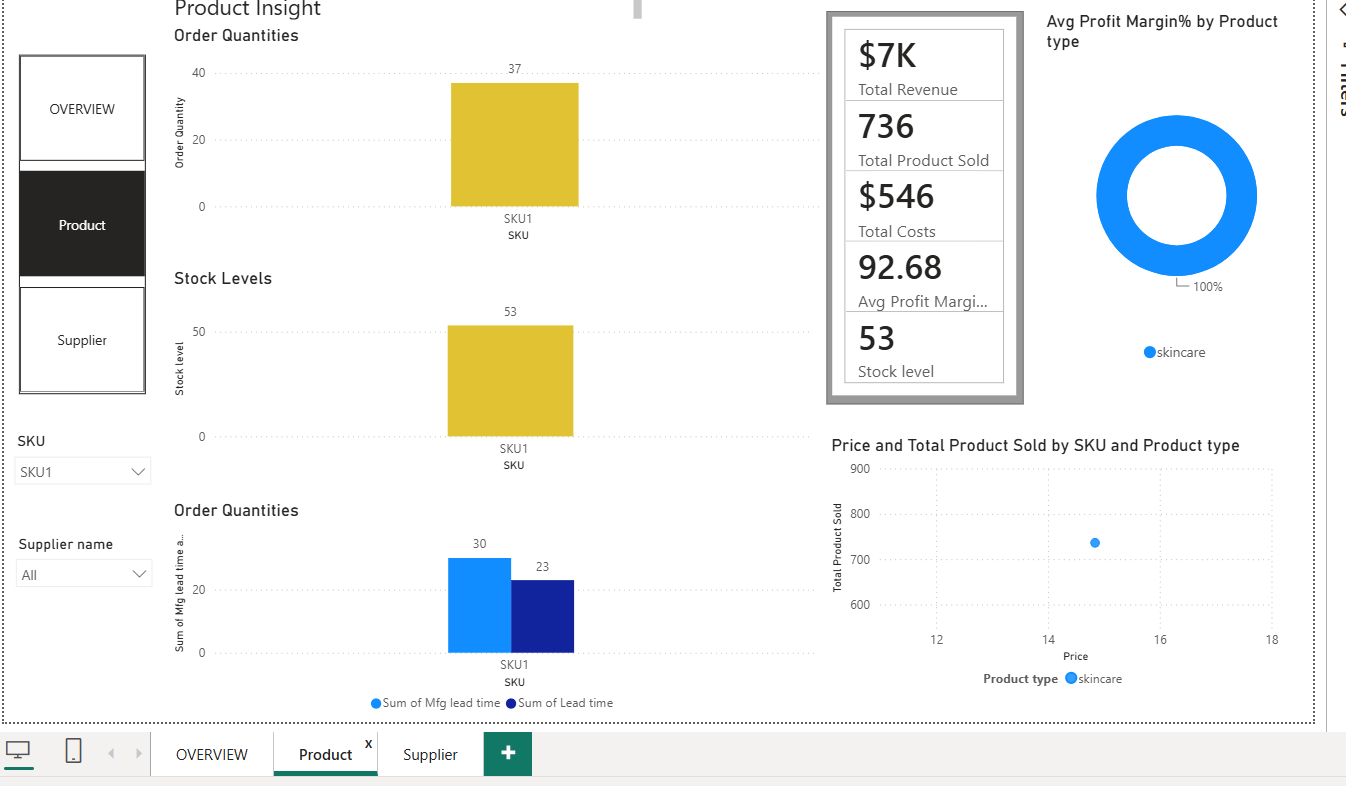

The page's visual inventory and layout, read from the dashboard file:
{"tool":"powerbi","page":{"name":"Product","canvas":[1280,720],"ordinal":1},"visuals":[{"type":"columnChart","title":"Order Quantities","fields":{"Category":["supply chain analysis.SKU"],"Y":["_Measures.Order Quantity"]},"box":[161.4,37.9,643.2,217.7],"z":0},{"type":"clusteredColumnChart","title":"Order Quantities","fields":{"Category":["supply chain analysis.SKU"],"Y":["Sum(supply chain analysis.Mfg lead time)","Sum(supply chain analysis.Lead time)"]},"box":[161.4,502.6,635.9,217.7],"z":1000},{"type":"columnChart","title":"Stock Levels","fields":{"Category":["supply chain analysis.SKU"],"Y":["_Measures.Stock level"]},"box":[161.4,275.1,634.7,205.4],"z":2000},{"type":"cardVisual","fields":{"Data":["_Measures.Total Revenue","_Measures.Total Product Sold","_Measures.Total Costs","_Measures.Avg Profit Margin%","_Measures.Stock level"]},"box":[805,25,192.5,385],"z":3000},{"type":"donutChart","fields":{"Category":["supply chain analysis.Product type"],"Y":["_Measures.Avg Profit Margin%"]},"box":[1015,25,265,352.5],"z":4000},{"type":"scatterChart","fields":{"Category":["supply chain analysis.SKU"],"X":["Sum(supply chain analysis.Price)"],"Y":["_Measures.Total Product Sold"],"Series":["supply chain analysis.Product type"]},"box":[805,438.8,447.5,256.2],"z":5000},{"type":"textbox","box":[161.4,0,467.1,37.9],"z":6000},{"type":"group","id":"g1","title":"Group 1","box":[0,67.8,155,546.6],"z":7000},{"type":"pageNavigator","box":[14.4,67.8,124.1,331.8],"z":8000,"group":"g1"},{"type":"slicer","fields":{"Values":["supply chain analysis.SKU"]},"box":[0,432.3,153.6,82.5],"z":9000,"group":"g1"},{"type":"slicer","fields":{"Values":["supply chain analysis.Supplier name"]},"box":[1.4,531.9,153.6,82.5],"z":10000,"group":"g1"}]}

Visuals, with their boxes on the page's 1280x720 design canvas (x1, y1, x2, y2). These are canvas units, not pixel positions in the 1346x786 screenshot, which may show the page scaled, cropped or inside an application window:
"Order Quantities" columnChart: BBox(161, 38, 805, 256)
"Order Quantities" clusteredColumnChart: BBox(161, 503, 797, 720)
"Stock Levels" columnChart: BBox(161, 275, 796, 480)
cardVisual - _Measures.Total Revenue x _Measures.Total Product Sold: BBox(805, 25, 998, 410)
donutChart - supply chain analysis.Product type x _Measures.Avg Profit Margin%: BBox(1015, 25, 1280, 378)
scatterChart - supply chain analysis.SKU x Sum(supply chain analysis.Price): BBox(805, 439, 1252, 695)
textbox: BBox(161, 0, 628, 38)
"Group 1" group: BBox(0, 68, 155, 614)
pageNavigator: BBox(14, 68, 138, 400)
slicer - supply chain analysis.SKU: BBox(0, 432, 154, 515)
slicer - supply chain analysis.Supplier name: BBox(1, 532, 155, 614)
